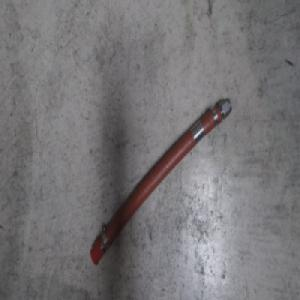Hose: (88, 95, 232, 268)
